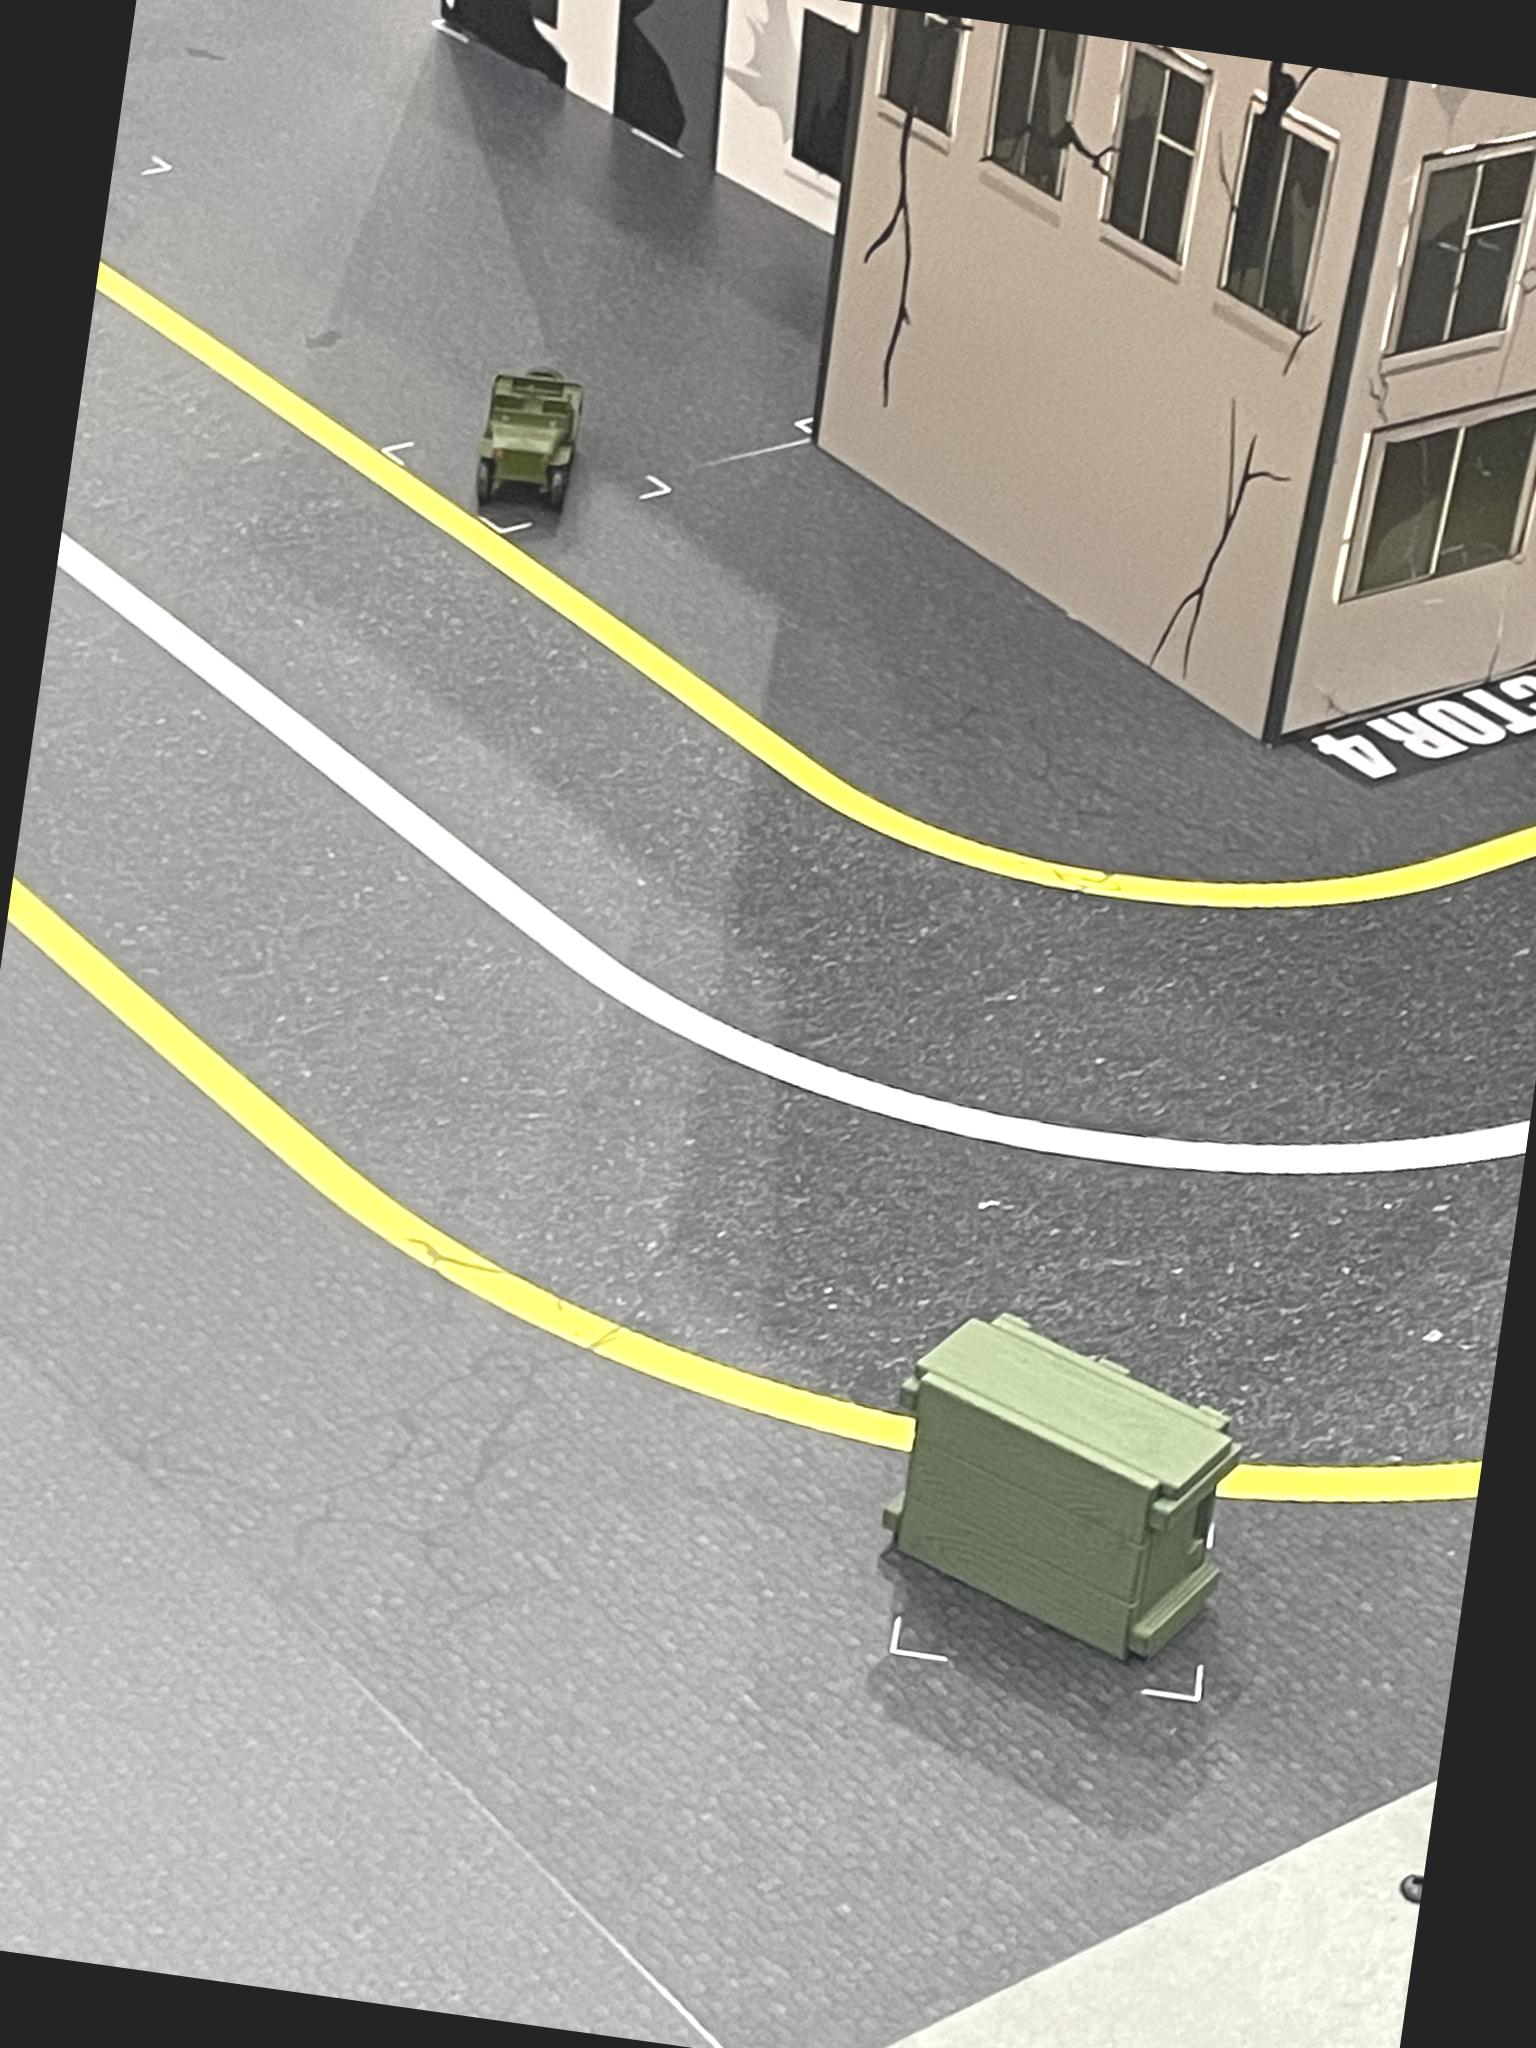Box: (850, 1295, 1265, 1690)
Car: (471, 352, 595, 532)
